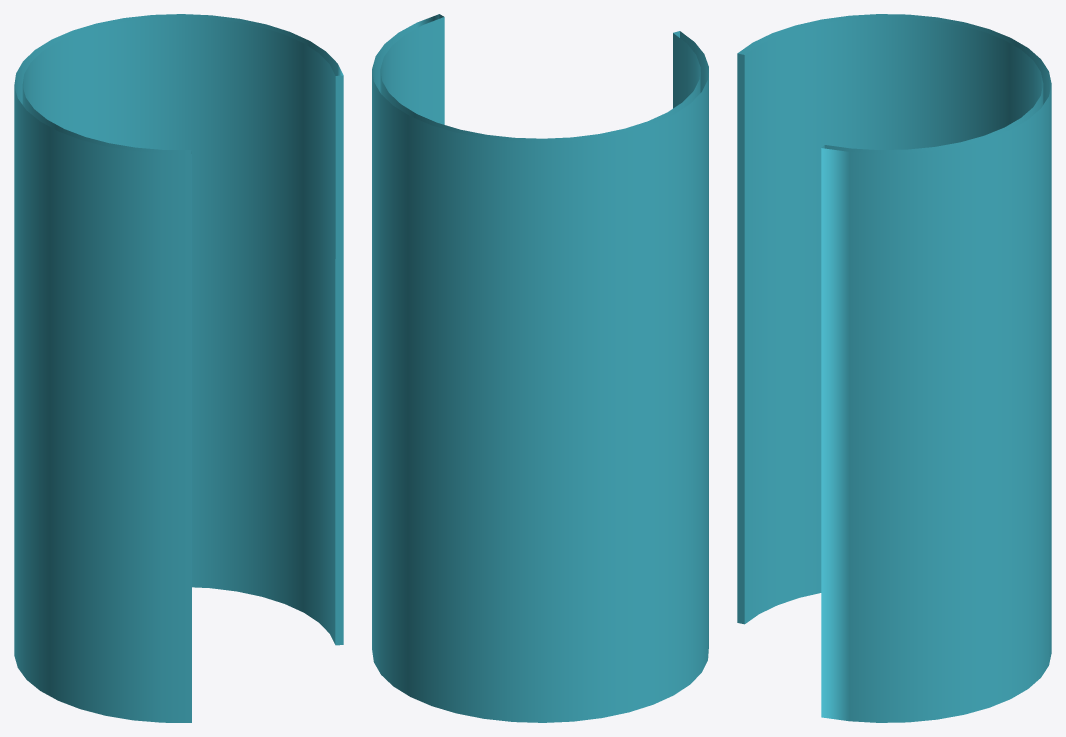
File: showerTubeGlass.fbx
3 renders of one model, left to right at view 1: azimuth 30°, elevation 25°; view 2: azimuth 150°, elevation 25°; view 3: azimuth 270°, elevation 25°, orthographic.
Parts seen in each view (by area): view 1: showerTubeGlass; view 2: showerTubeGlass; view 3: showerTubeGlass.
Boxes of the visible parts, left/top/right/bottom form: showerTubeGlass: left=14, top=14, right=343, bottom=722; showerTubeGlass: left=372, top=14, right=708, bottom=722; showerTubeGlass: left=737, top=14, right=1051, bottom=722.
Bounding box in the file's own units: 99.9 × 190 × 95.05.
